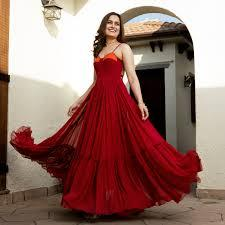dress: (7, 40, 205, 219)
